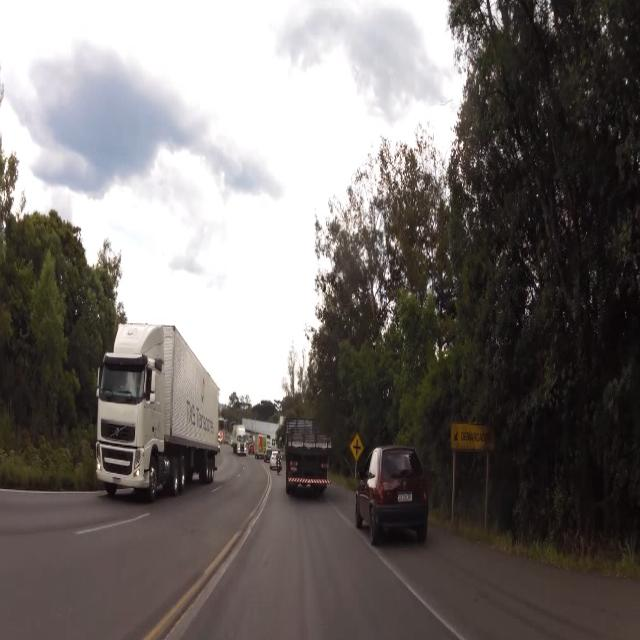A-6: (350, 433, 363, 464)
